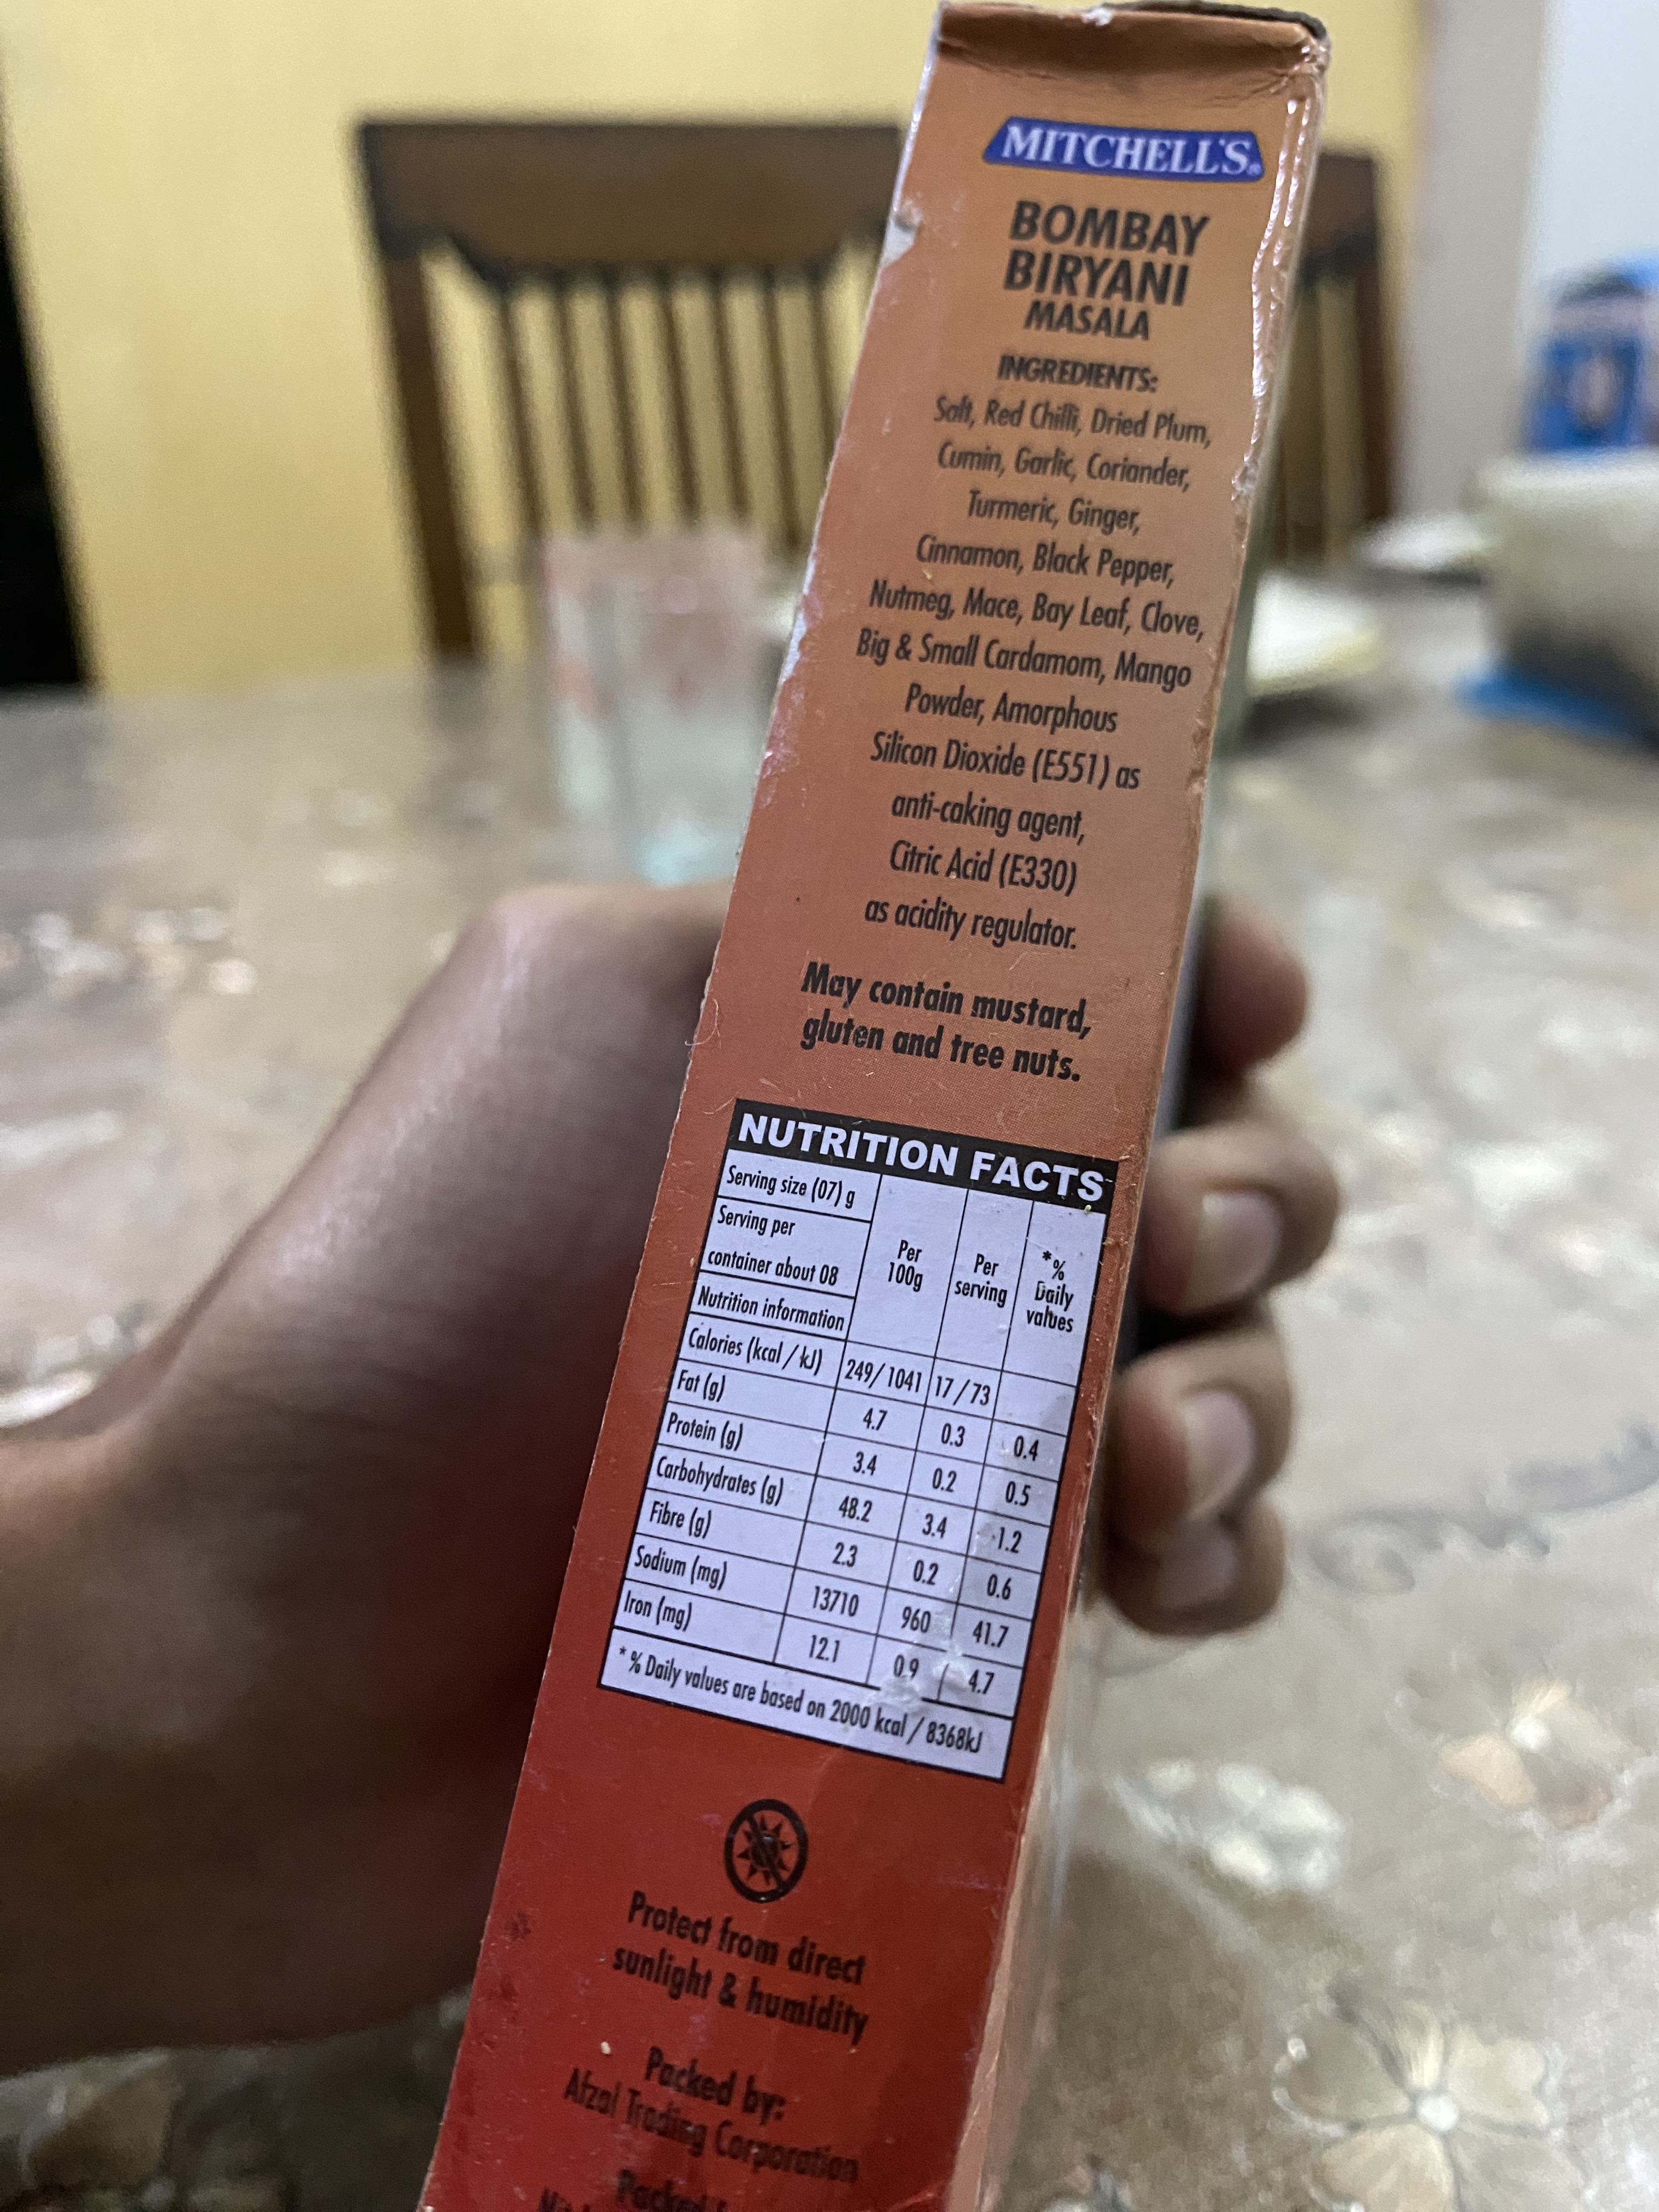table: (589, 1096, 1133, 1796)
